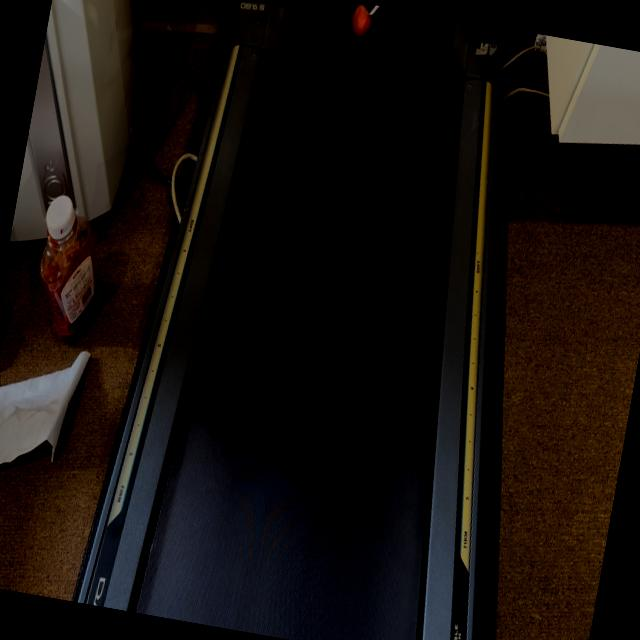Trash: (340, 0, 380, 49)
